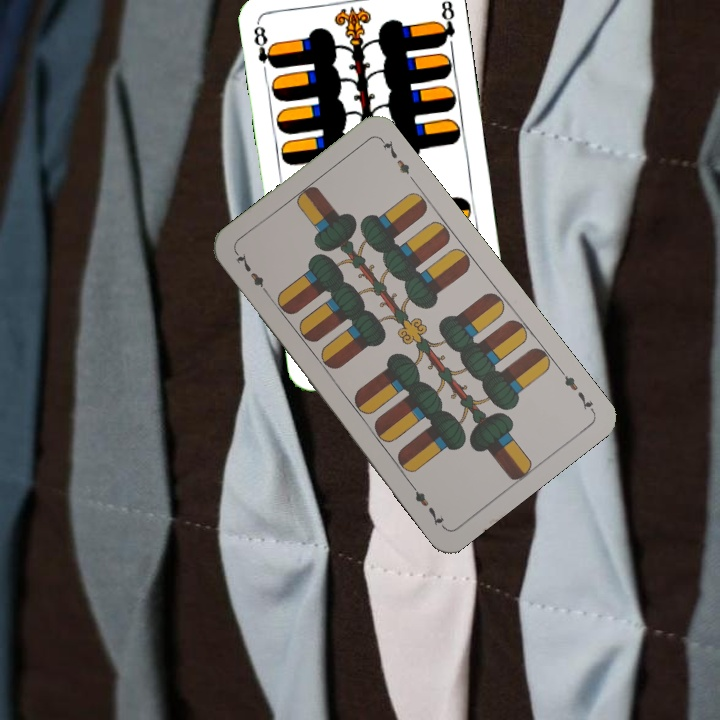E7: (555, 364, 596, 415), (231, 248, 272, 298)
E8: (249, 20, 279, 72)
